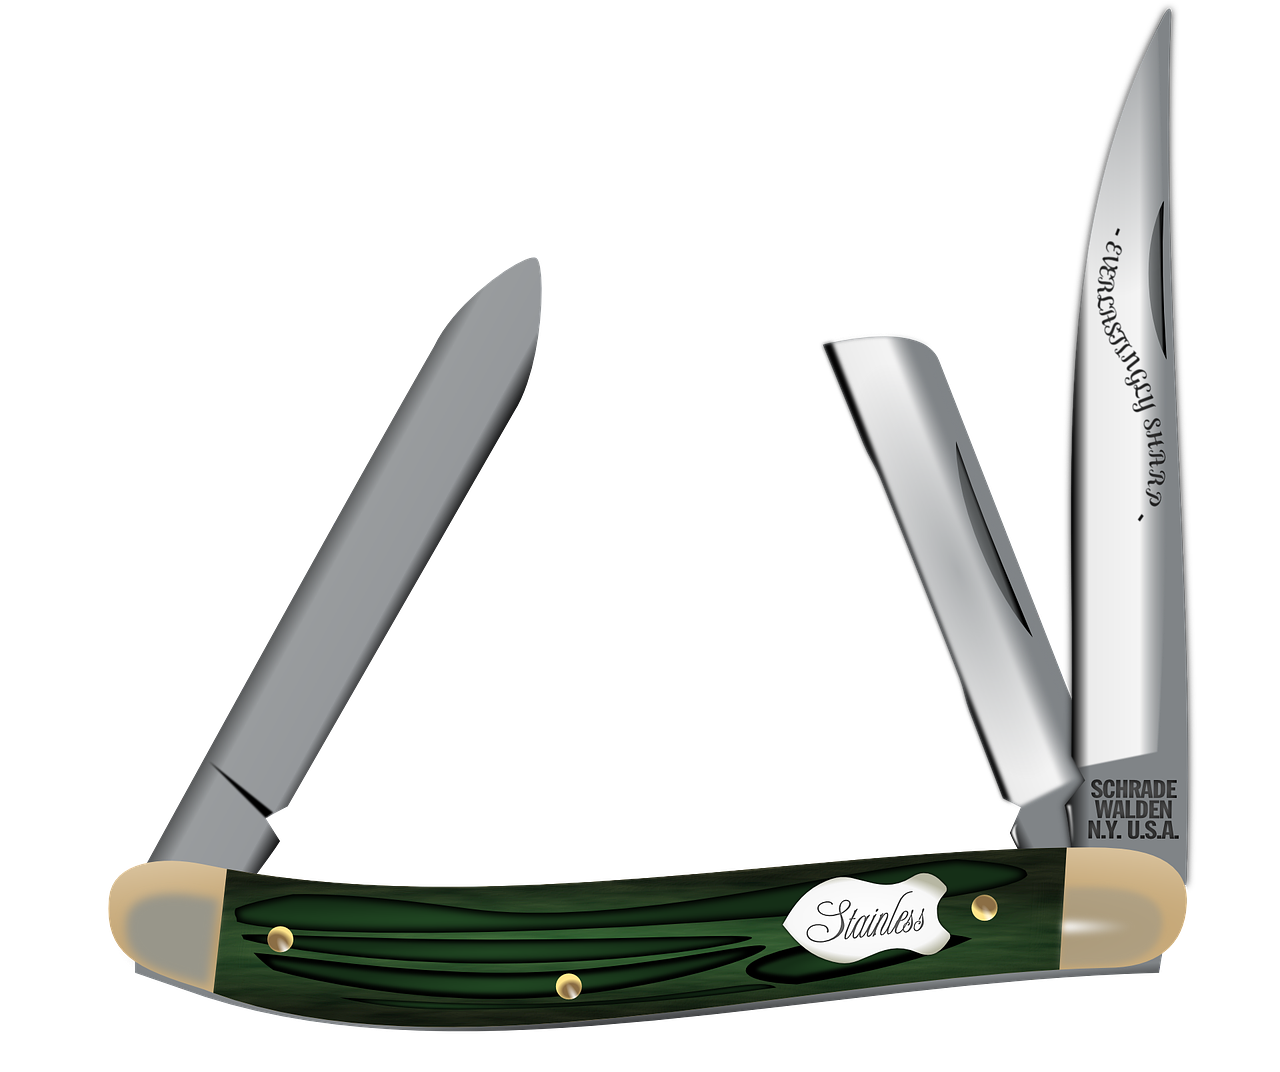knife: (148, 248, 548, 876), (830, 329, 1079, 844), (1073, 9, 1191, 851)
